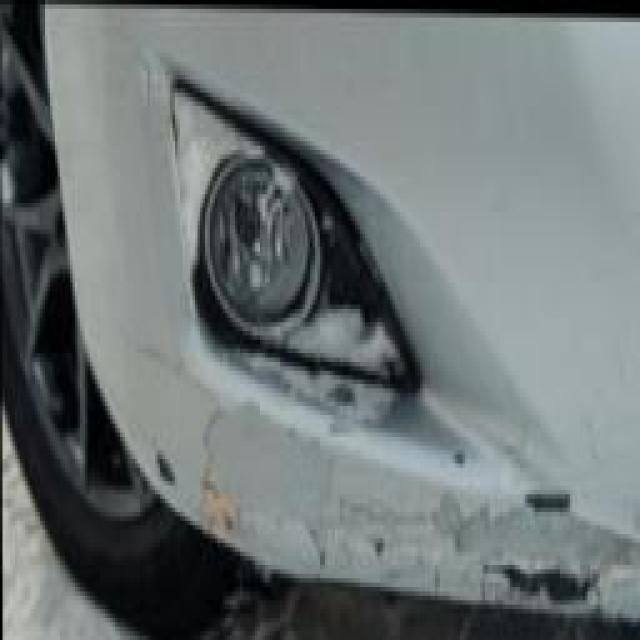Bumper: (75, 9, 640, 625)
